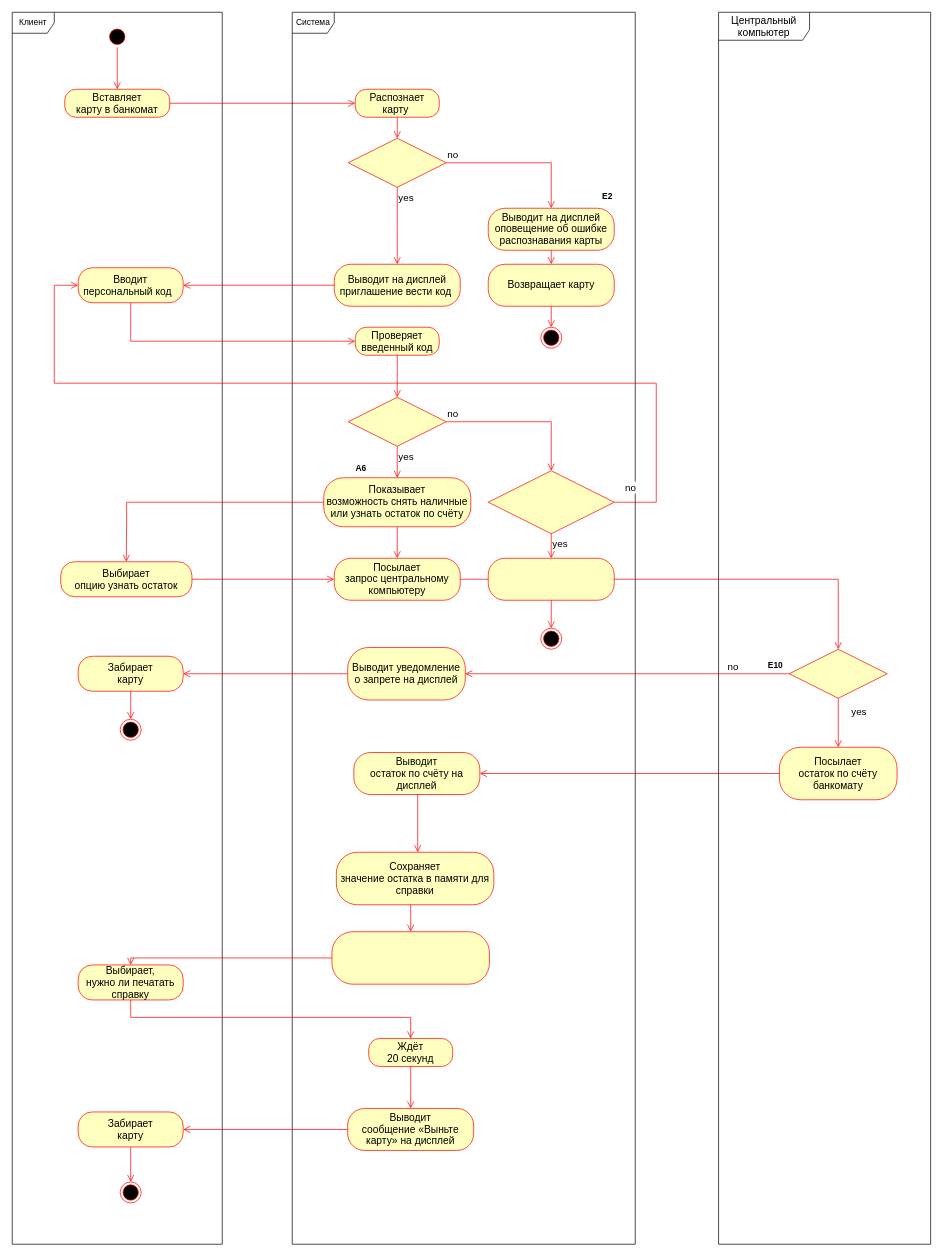
This 943x1257 diagram has some shape labels left out. The centre of each missing label's shape, as x and y in pixels:
Выводит на дисплей вопрос, нужно ли печатать справку: (x=410, y=957)
Карта помещается в хранилище: (x=551, y=579)
Карта распознана: (x=397, y=162)
Код введён больше 3 раз: (x=551, y=502)
Код верный: (x=397, y=421)
Разрешить показ остатка по счёту: (x=838, y=673)
